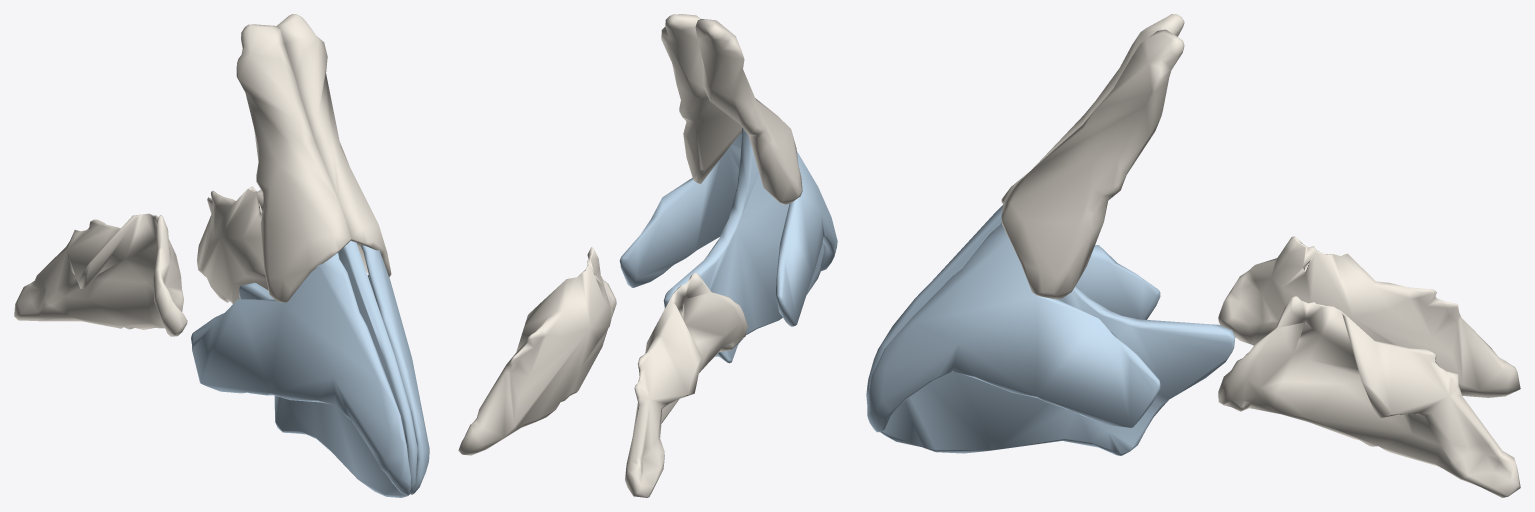
File: nose.glb
3 renders of one model, left to right at view 1: azimuth 30°, elevation 25°; view 2: azimuth 150°, elevation 25°; view 3: azimuth 270°, elevation 25°, orthographic. The views are drawn at different scales.
Parts seen in each view (by area): view 1: Lateral_process_of_nasal_septal_cartilager, Nasal_boner, Inferior_nasal_concha_boner, Nasal_septal_cartilage, Nasal_bonel, Inferior_nasal_concha_bonel, Lateral_process_of_nasal_septal_cartilagel; view 2: Inferior_nasal_concha_bonel, Inferior_nasal_concha_boner, Nasal_septal_cartilage, Lateral_process_of_nasal_septal_cartilagel, Nasal_boner, Nasal_bonel, Lateral_process_of_nasal_septal_cartilager; view 3: Lateral_process_of_nasal_septal_cartilagel, Inferior_nasal_concha_bonel, Nasal_septal_cartilage, Nasal_bonel, Inferior_nasal_concha_boner, Lateral_process_of_nasal_septal_cartilager, Nasal_boner.
Boxes of the visible parts, bbox=[...] form: Lateral_process_of_nasal_septal_cartilager: bbox=[191, 252, 410, 495]; Nasal_boner: bbox=[236, 24, 351, 302]; Inferior_nasal_concha_boner: bbox=[14, 213, 187, 336]; Nasal_septal_cartilage: bbox=[239, 241, 417, 497]; Nasal_bonel: bbox=[277, 14, 391, 276]; Inferior_nasal_concha_bonel: bbox=[196, 186, 268, 303]; Lateral_process_of_nasal_septal_cartilagel: bbox=[361, 245, 429, 494]; Inferior_nasal_concha_bonel: bbox=[458, 247, 616, 455]; Inferior_nasal_concha_boner: bbox=[625, 273, 747, 497]; Nasal_septal_cartilage: bbox=[663, 127, 823, 363]; Lateral_process_of_nasal_septal_cartilagel: bbox=[619, 133, 741, 287]; Nasal_boner: bbox=[695, 19, 802, 204]; Nasal_bonel: bbox=[661, 14, 742, 183]; Lateral_process_of_nasal_septal_cartilager: bbox=[775, 151, 837, 326]; Lateral_process_of_nasal_septal_cartilagel: bbox=[867, 222, 1160, 432]; Inferior_nasal_concha_bonel: bbox=[1218, 296, 1520, 497]; Nasal_septal_cartilage: bbox=[866, 204, 1235, 455]; Nasal_bonel: bbox=[1001, 29, 1184, 299]; Inferior_nasal_concha_boner: bbox=[1218, 236, 1520, 397]; Lateral_process_of_nasal_septal_cartilager: bbox=[1076, 245, 1160, 319]; Nasal_boner: bbox=[1001, 14, 1184, 203].
Size of the model in its own units: 2.98 by 5.4 by 7.5.
